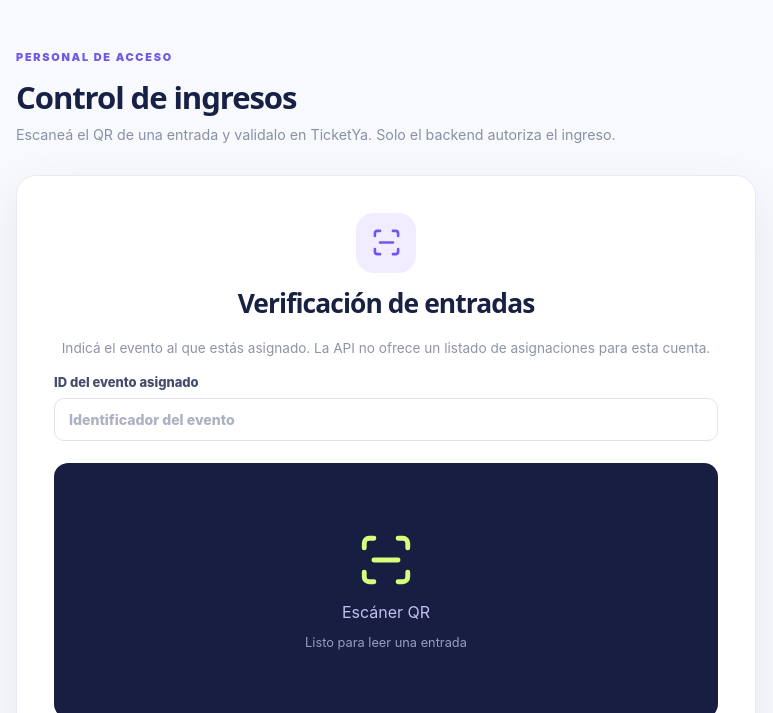
Test: nunca valida QR solo en el navegador: envía datos exactos a /entradas/validar
In the number field with placeholder "Identificador del evento": (386, 419) [54, 398, 718, 441], type "4"
(page scrolled)
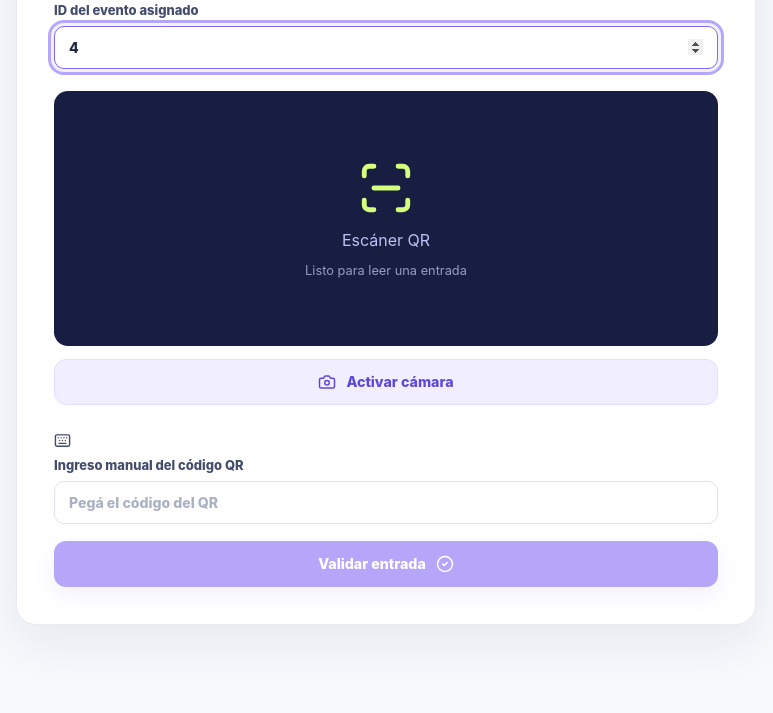
In the field with placeholder "Pegá el código del QR": (386, 502) [54, 481, 718, 524], type "QR-de-test"
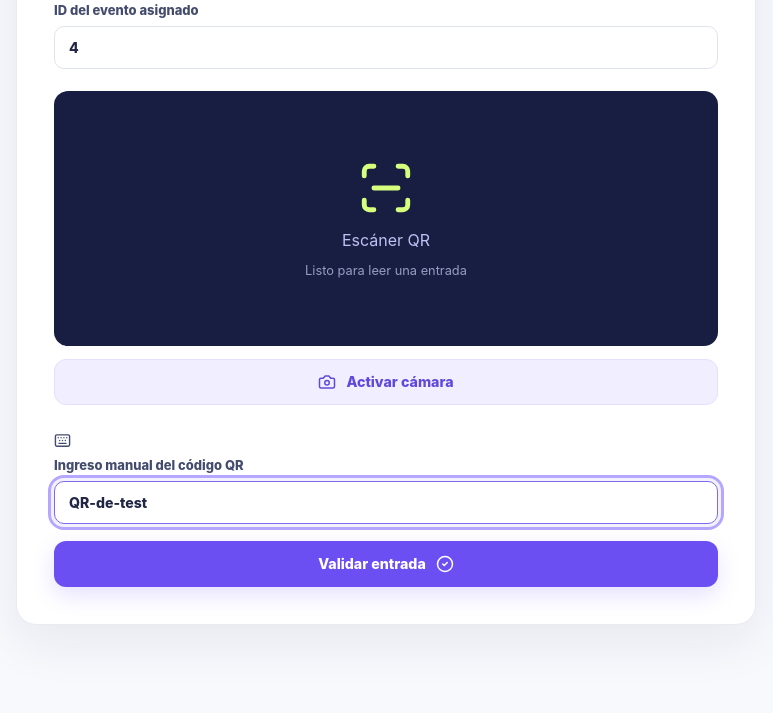
Click the button "Validar entrada": (386, 564) [54, 541, 718, 587]
(page scrolled)
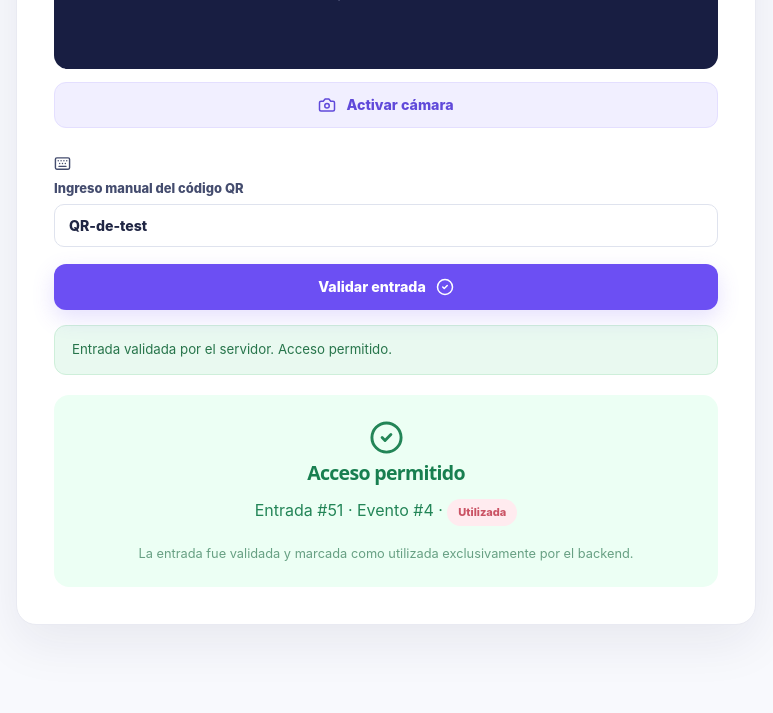
expect the heading "Acceso permitido" is shown: met, box [307, 459, 465, 486]
